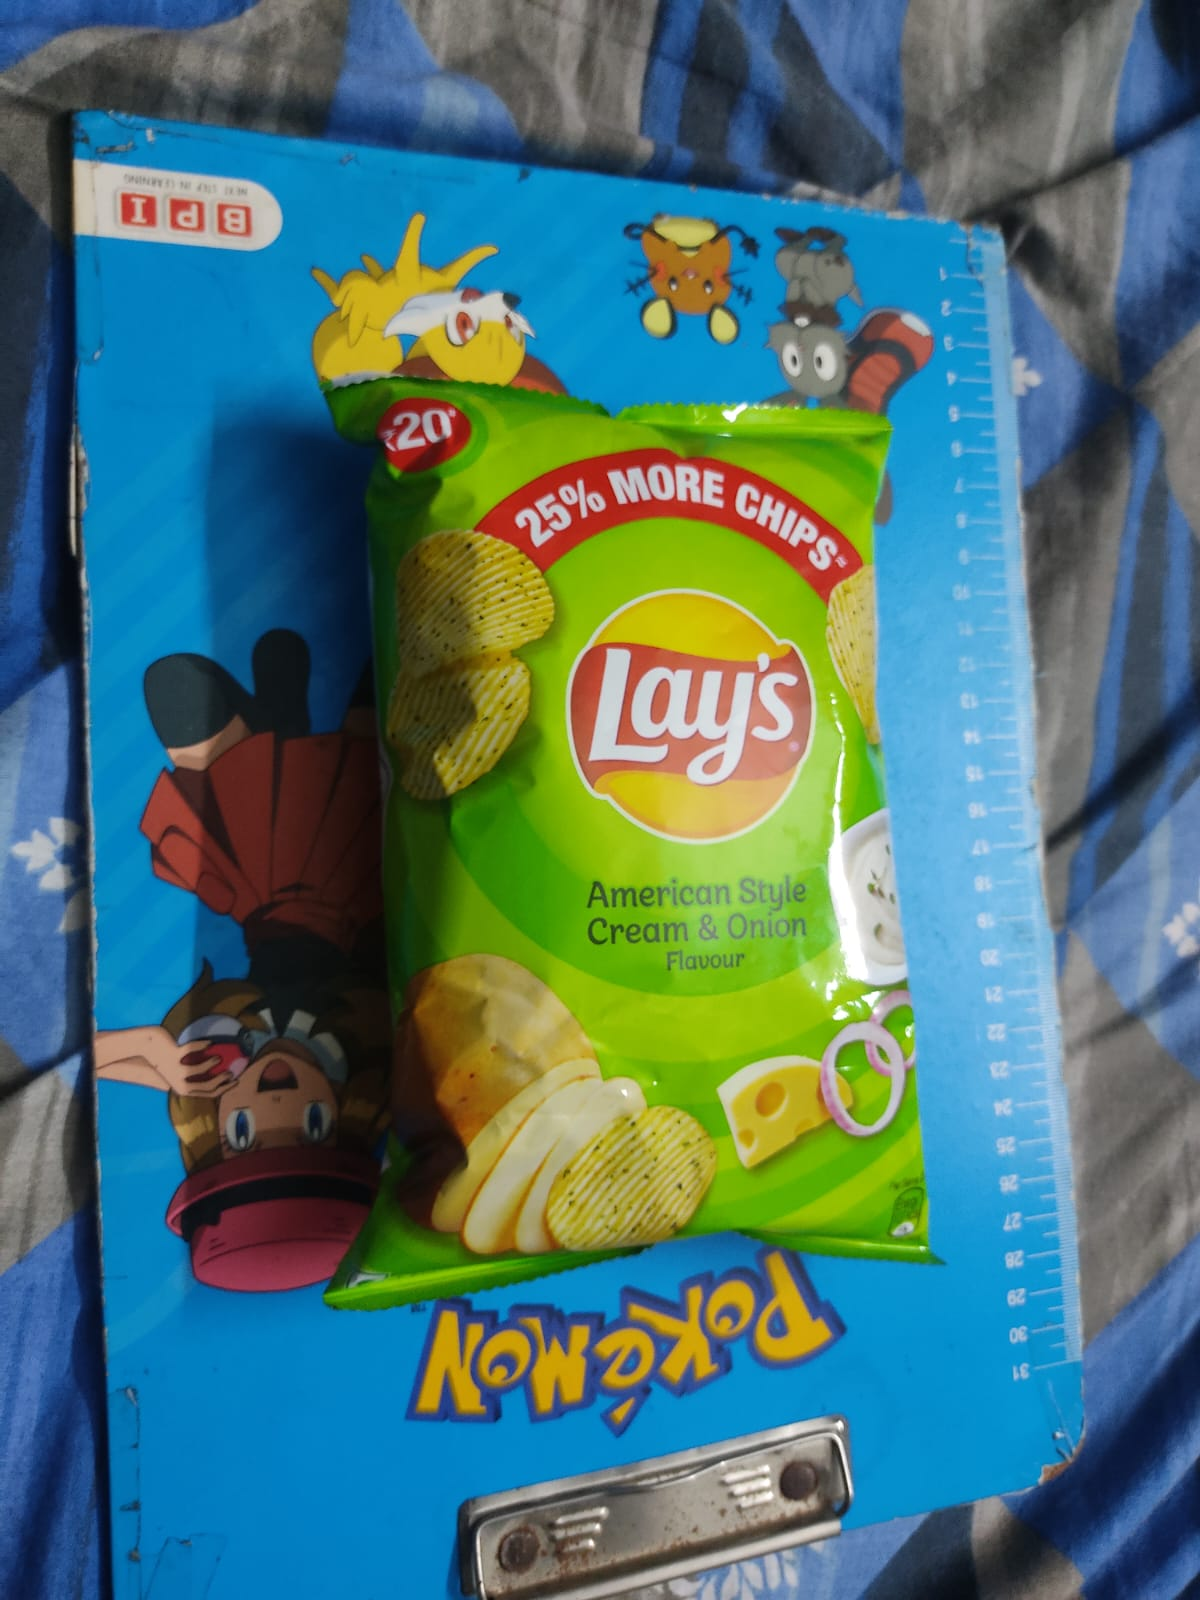020_GreenLays: (349, 379, 932, 1238)
